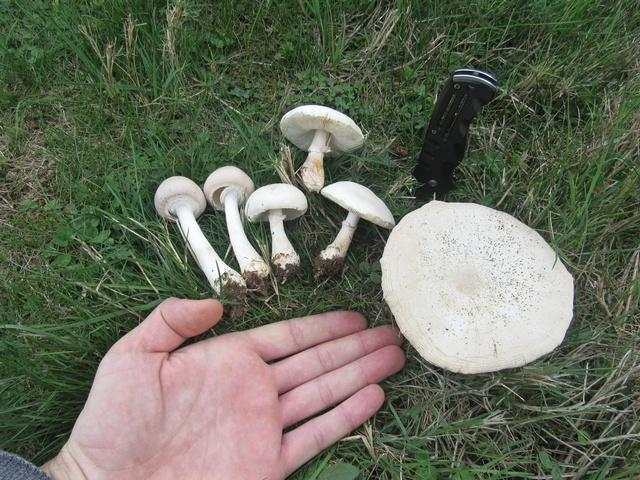Non-edible Mushroom: (379, 198, 575, 374), (153, 174, 247, 307), (312, 179, 395, 279), (278, 103, 365, 192), (243, 181, 308, 281)
